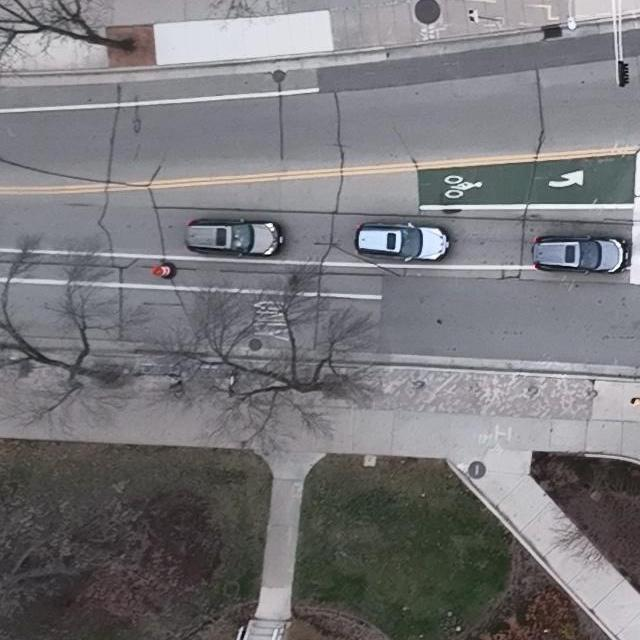car: (532, 233, 630, 276), (184, 218, 285, 259), (354, 221, 449, 262)
